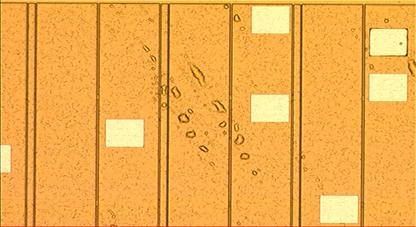PO CONTAMINATION: (94, 3, 416, 227)
